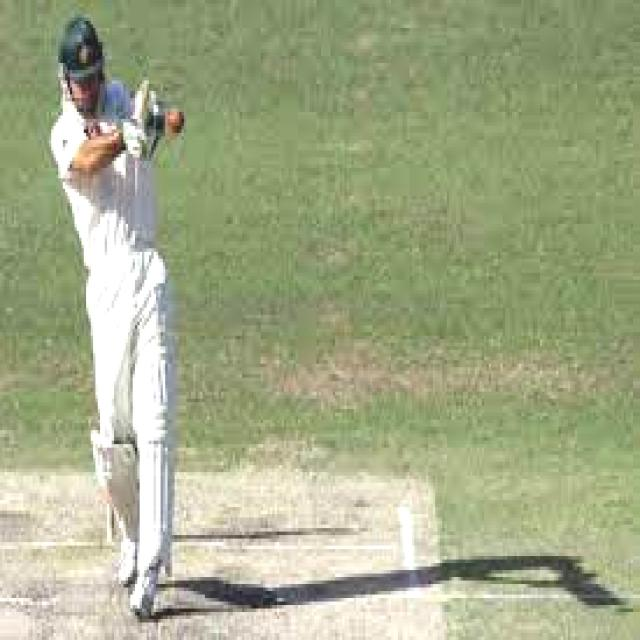toe: (137, 80, 155, 126)
